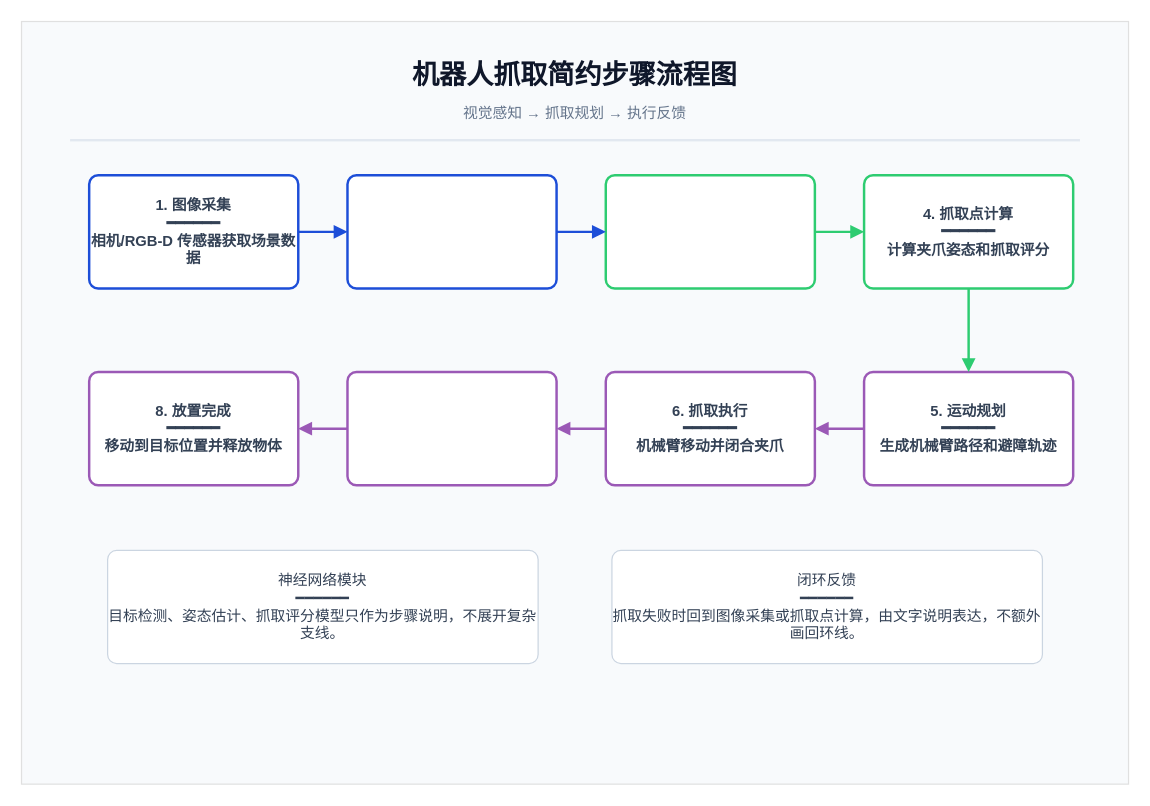
Image size: 1150x806. Some labels were removed from this diagram. Each missing label, with the box of its shape:
2. 图像预处理 ━━━━━━ 去噪、增强、坐标归一化: (346, 173, 557, 289)
3. 目标检测 ━━━━━━ 识别目标类别、位置和轮廓: (604, 173, 815, 289)
7. 质量检测 ━━━━━━ 根据力反馈和视觉结果判断成功: (346, 370, 557, 486)
